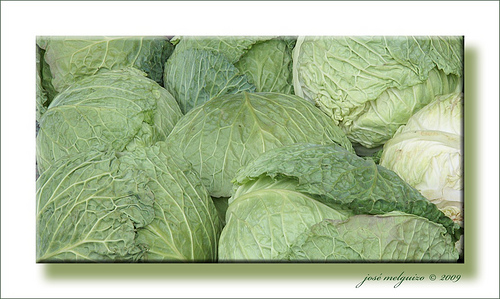cabbage: (37, 140, 221, 260), (166, 93, 355, 200), (290, 37, 463, 148)
